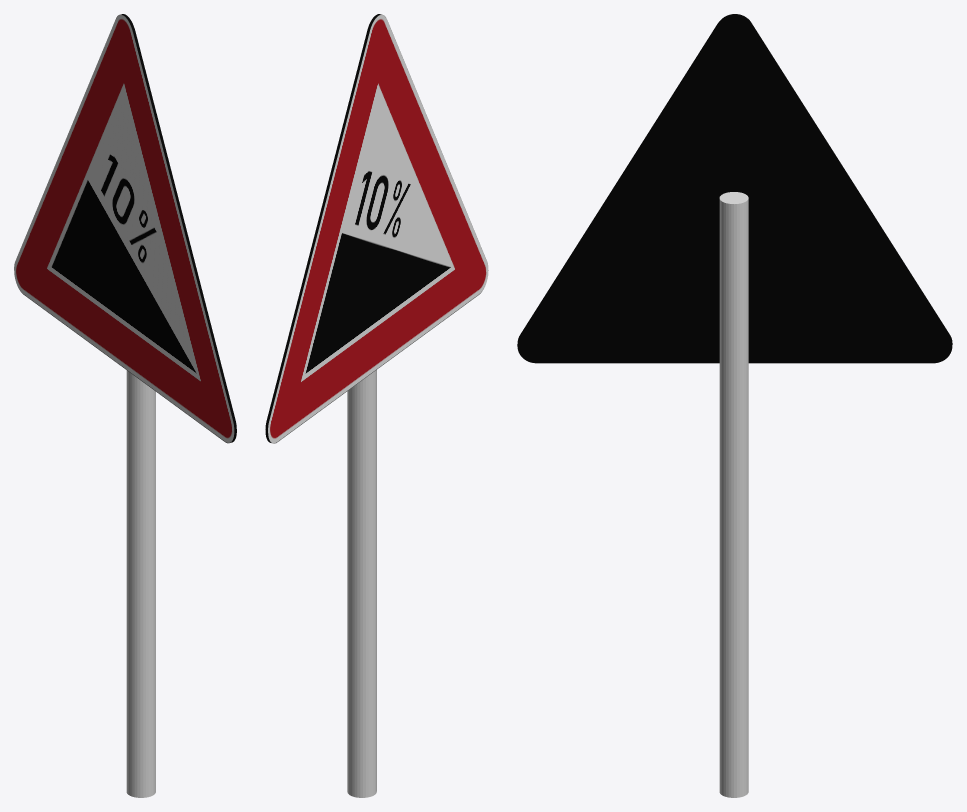
Rendered from downhill_grade_sign.dae.
The picture shows the model from 3 angles, left to right: view 1: azimuth 30°, elevation 25°; view 2: azimuth 150°, elevation 25°; view 3: azimuth 270°, elevation 25°; orthographic projection.
Parts seen in each view (by area): view 1: path4612, Cylinder; view 2: path4612, Cylinder; view 3: path4612, Cylinder.
Boxes of the visible parts, <box> form: path4612: <box>14,14,236,443</box>; Cylinder: <box>126,370,155,797</box>; path4612: <box>265,14,488,443</box>; Cylinder: <box>347,370,376,797</box>; path4612: <box>517,14,952,363</box>; Cylinder: <box>719,192,748,797</box>.
Bounding box in the file's own units: 0.0115 × 0.1494 × 0.2917.
Materials: 3 (2 with a texture image).
